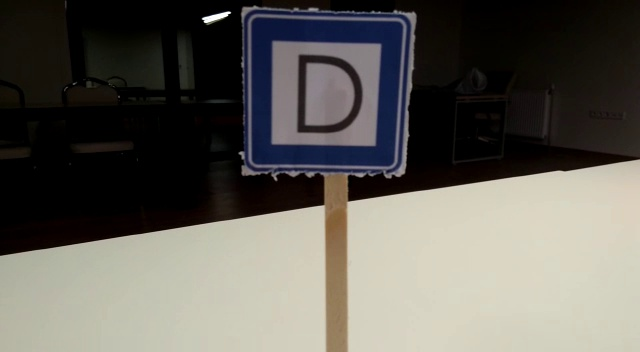durak: (243, 12, 413, 173)
